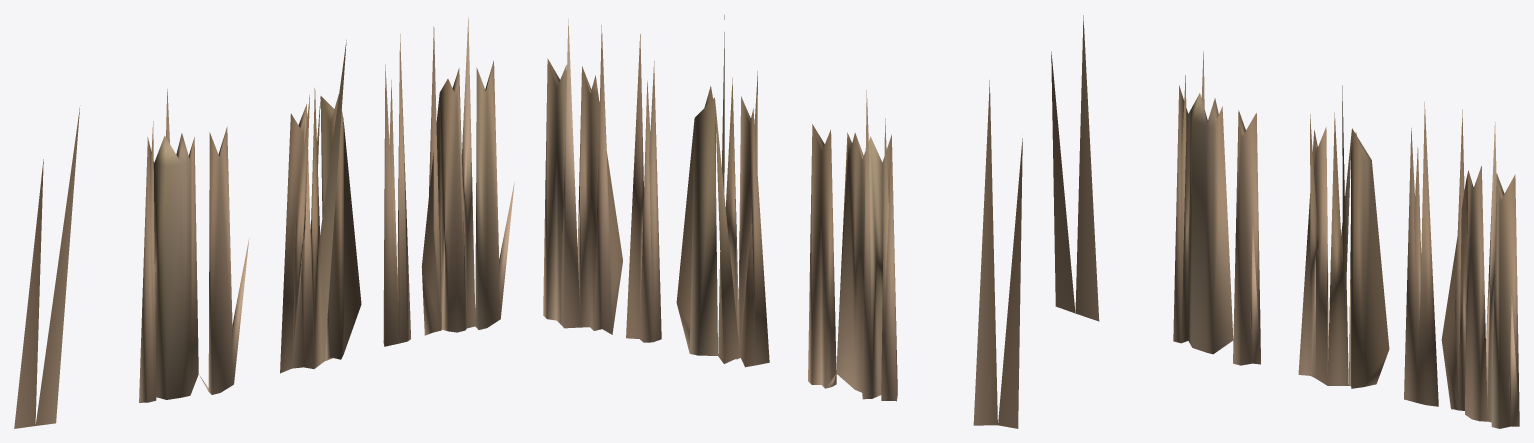
The model's file is empalizada_lejos.glb.
3 views of the same model, side by side, from view 1: azimuth 30°, elevation 25°; view 2: azimuth 150°, elevation 25°; view 3: azimuth 330°, elevation 25° (orthographic). The views are drawn at different scales.
Visible parts, largest first — view 1: empalizada_lejos; view 2: empalizada_lejos; view 3: empalizada_lejos.
Part boxes in pixels (<box>): empalizada_lejos: <box>14,17,514,428</box>; empalizada_lejos: <box>543,15,1022,428</box>; empalizada_lejos: <box>1051,15,1519,428</box>.
Size of the model in its own units: 5.91 by 3.89 by 0.478.
